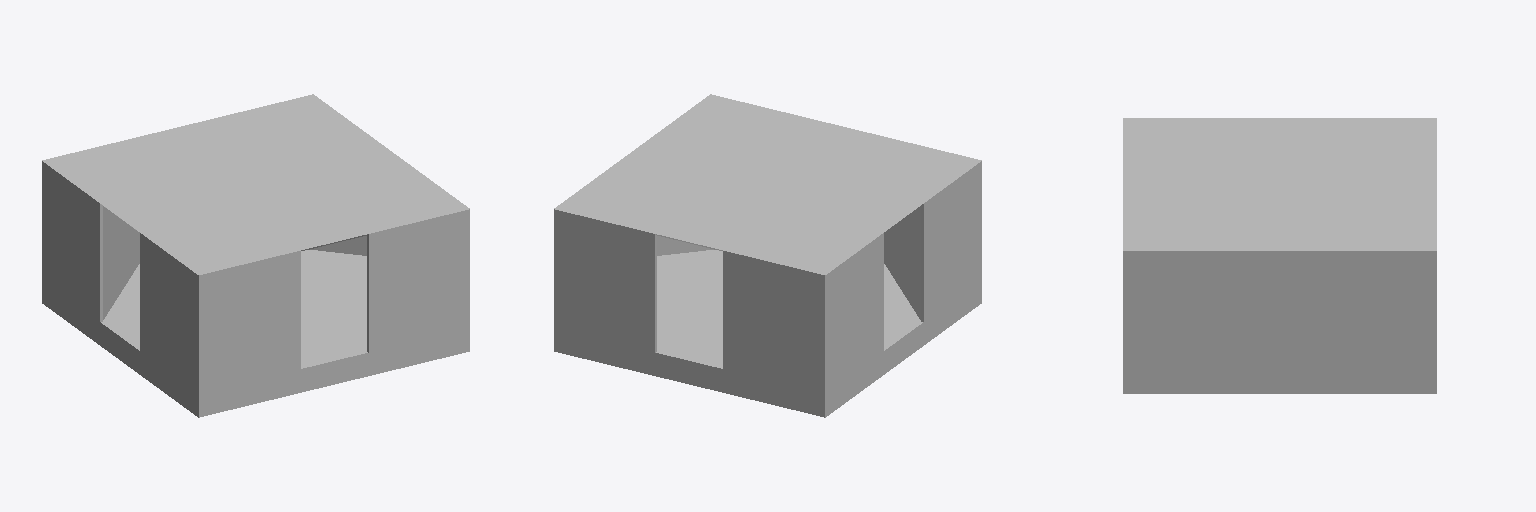
File: right_front.obj
The picture shows the model from 3 angles: view 1: azimuth 30°, elevation 25°; view 2: azimuth 150°, elevation 25°; view 3: azimuth 270°, elevation 25°; orthographic projection.
Visible parts, largest first — view 1: RightFront; view 2: RightFront; view 3: RightFront.
Part boxes in pixels (bbox=[...]): RightFront: bbox=[42, 94, 469, 417]; RightFront: bbox=[554, 94, 981, 417]; RightFront: bbox=[1123, 118, 1436, 393].
Bounding box in the file's own units: 12 × 6 × 12.